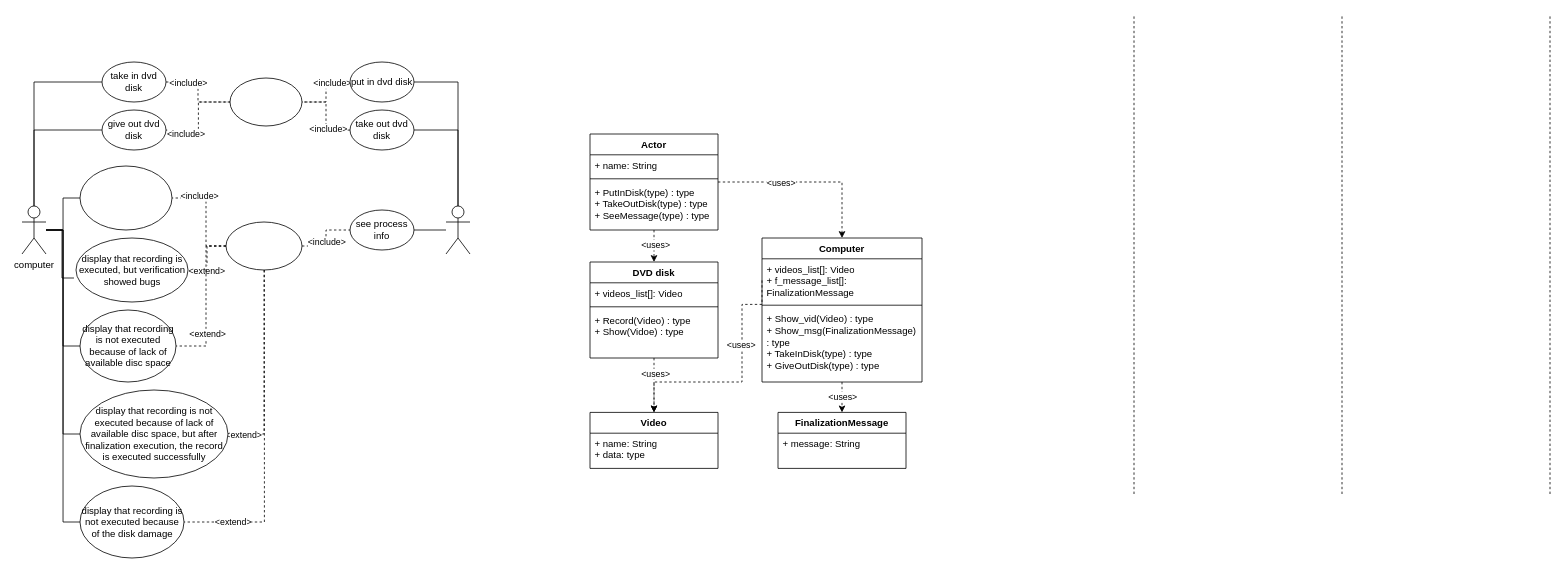
The diagram is 1565 pixels wide and 572 high, and some of its shapes have lost their labels. The shapes that lost their labels are listed below. From the top down, each one's centre as x and y in pixels, then its label:
the point at 265,101: work with disk
the point at 125,197: display that recording is completed successfully
the point at 263,245: work with process info
the point at 457,229: person
